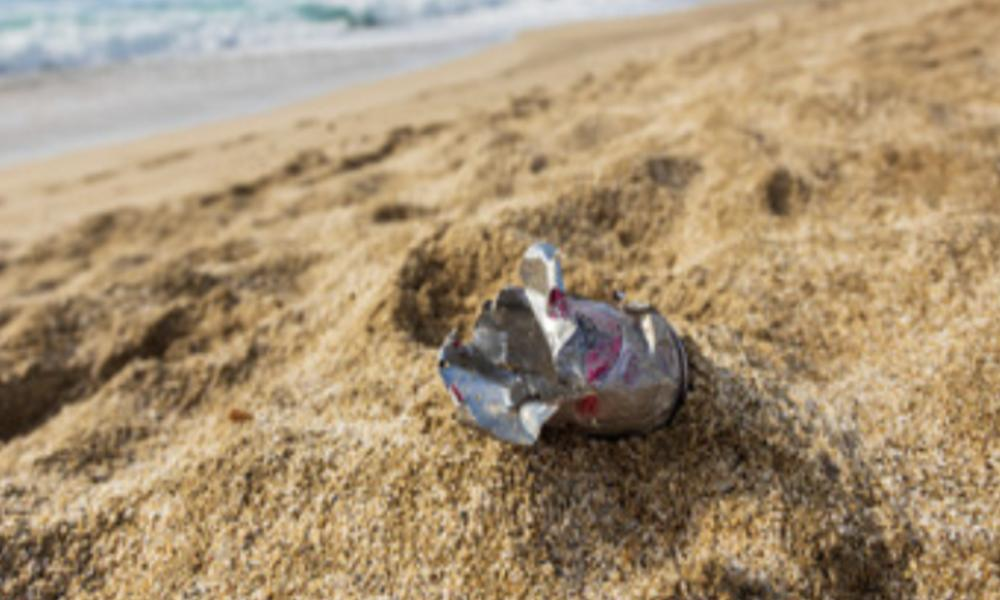can: (437, 240, 708, 478)
